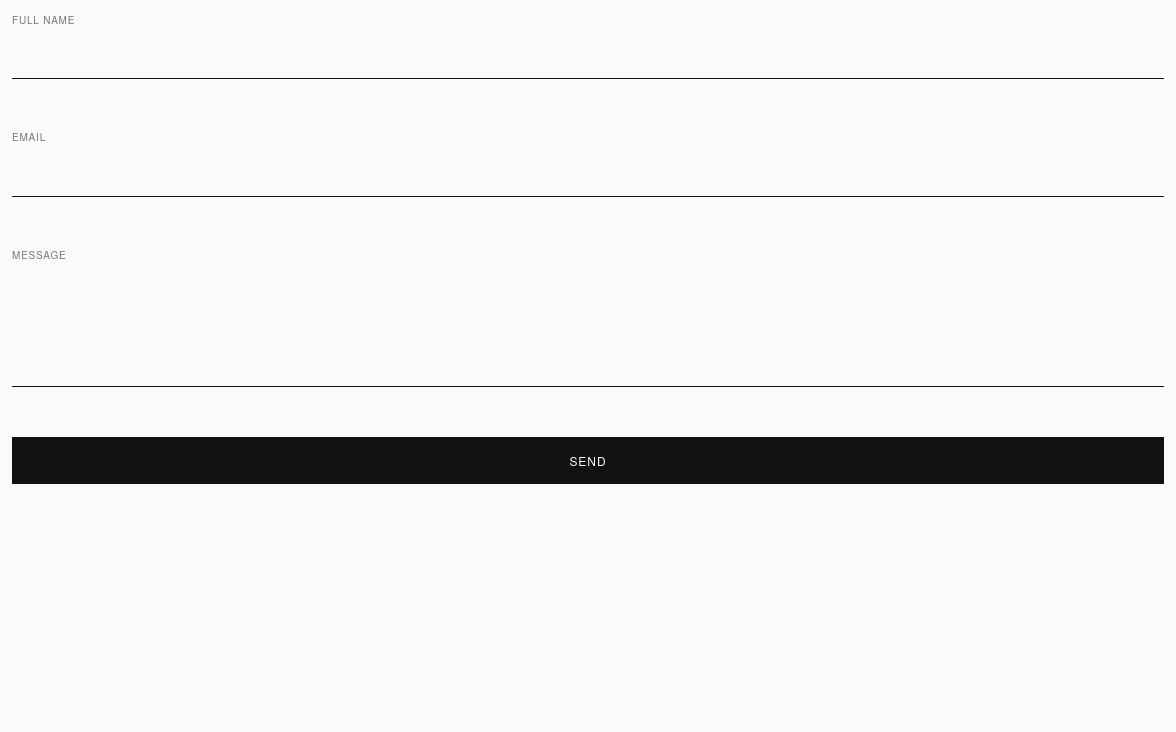
Scenario: get in touch form › tells the sender to email instead when the route rejects the enquiry
In the field labelled "FULL NAME": x=588, y=60 [12, 40, 1164, 79], type "Dara Okafor"
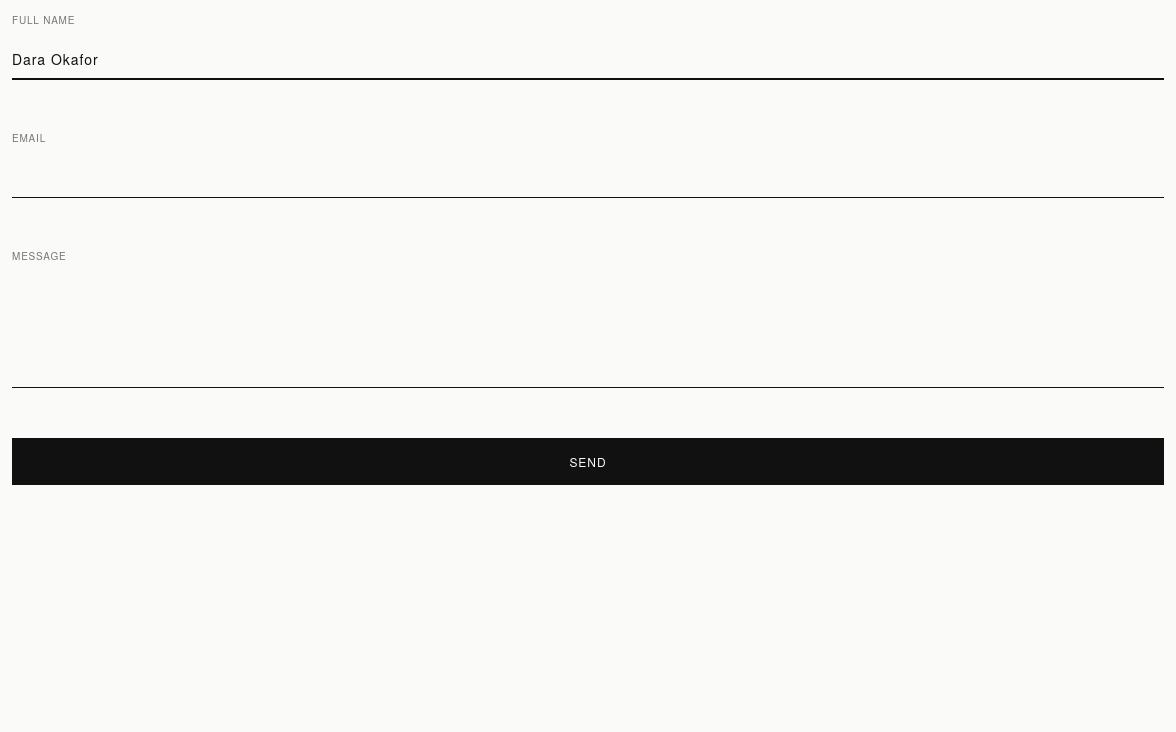
In the field labelled "EMAIL": x=588, y=178 [12, 158, 1164, 198], type "dara@example.com"
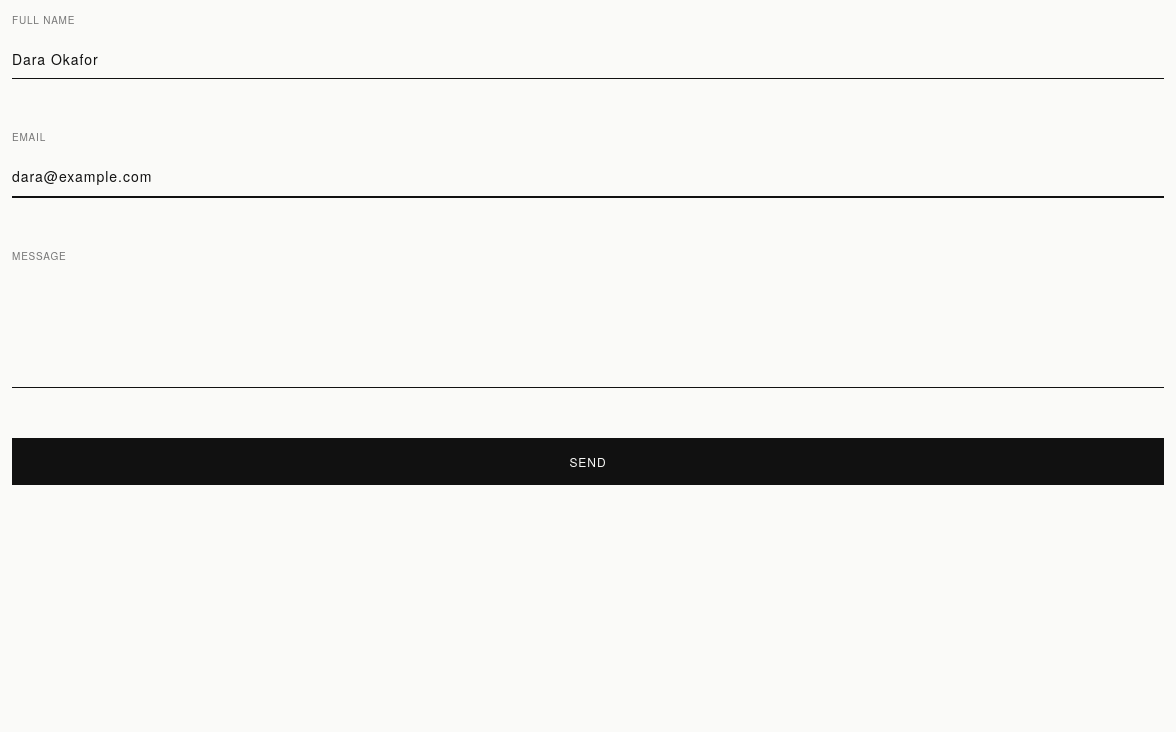
In the text box labelled "MESSAGE": x=588, y=332 [12, 276, 1164, 388], type "Hello"
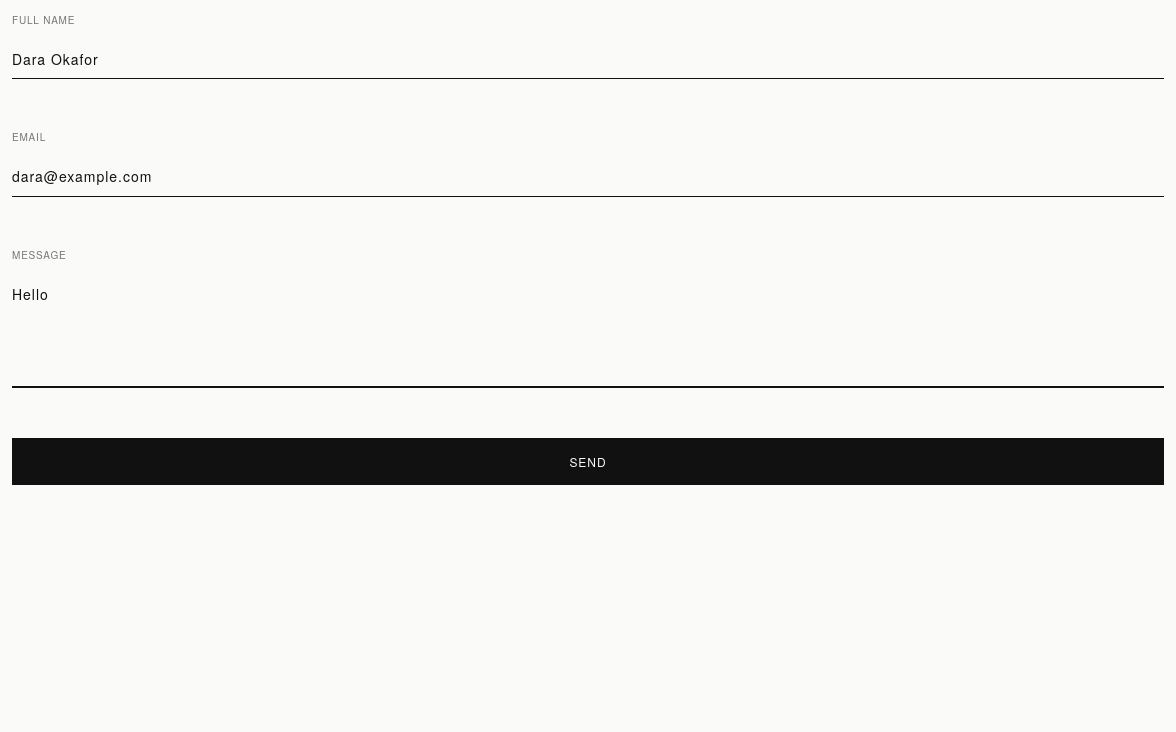
Click the button "SEND": x=588, y=462 [12, 438, 1164, 485]
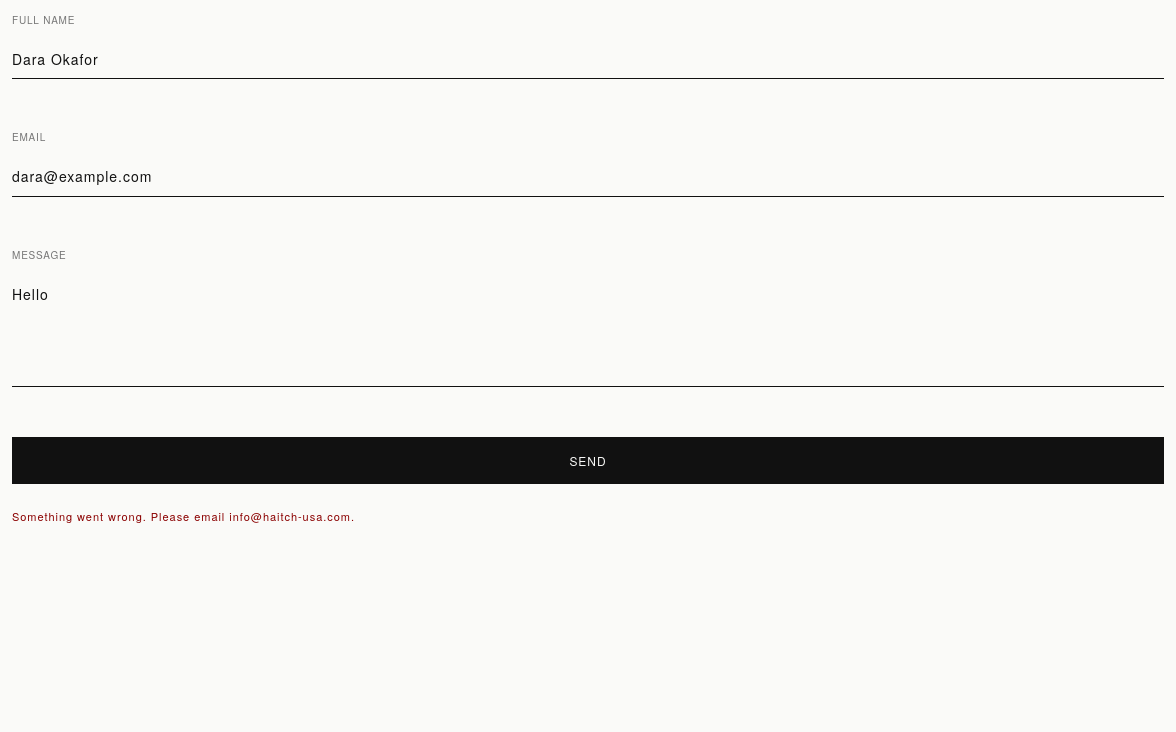
Result: the text "Something went wrong. Please email info@haitch-usa.com." is shown at [12, 508, 355, 524]
